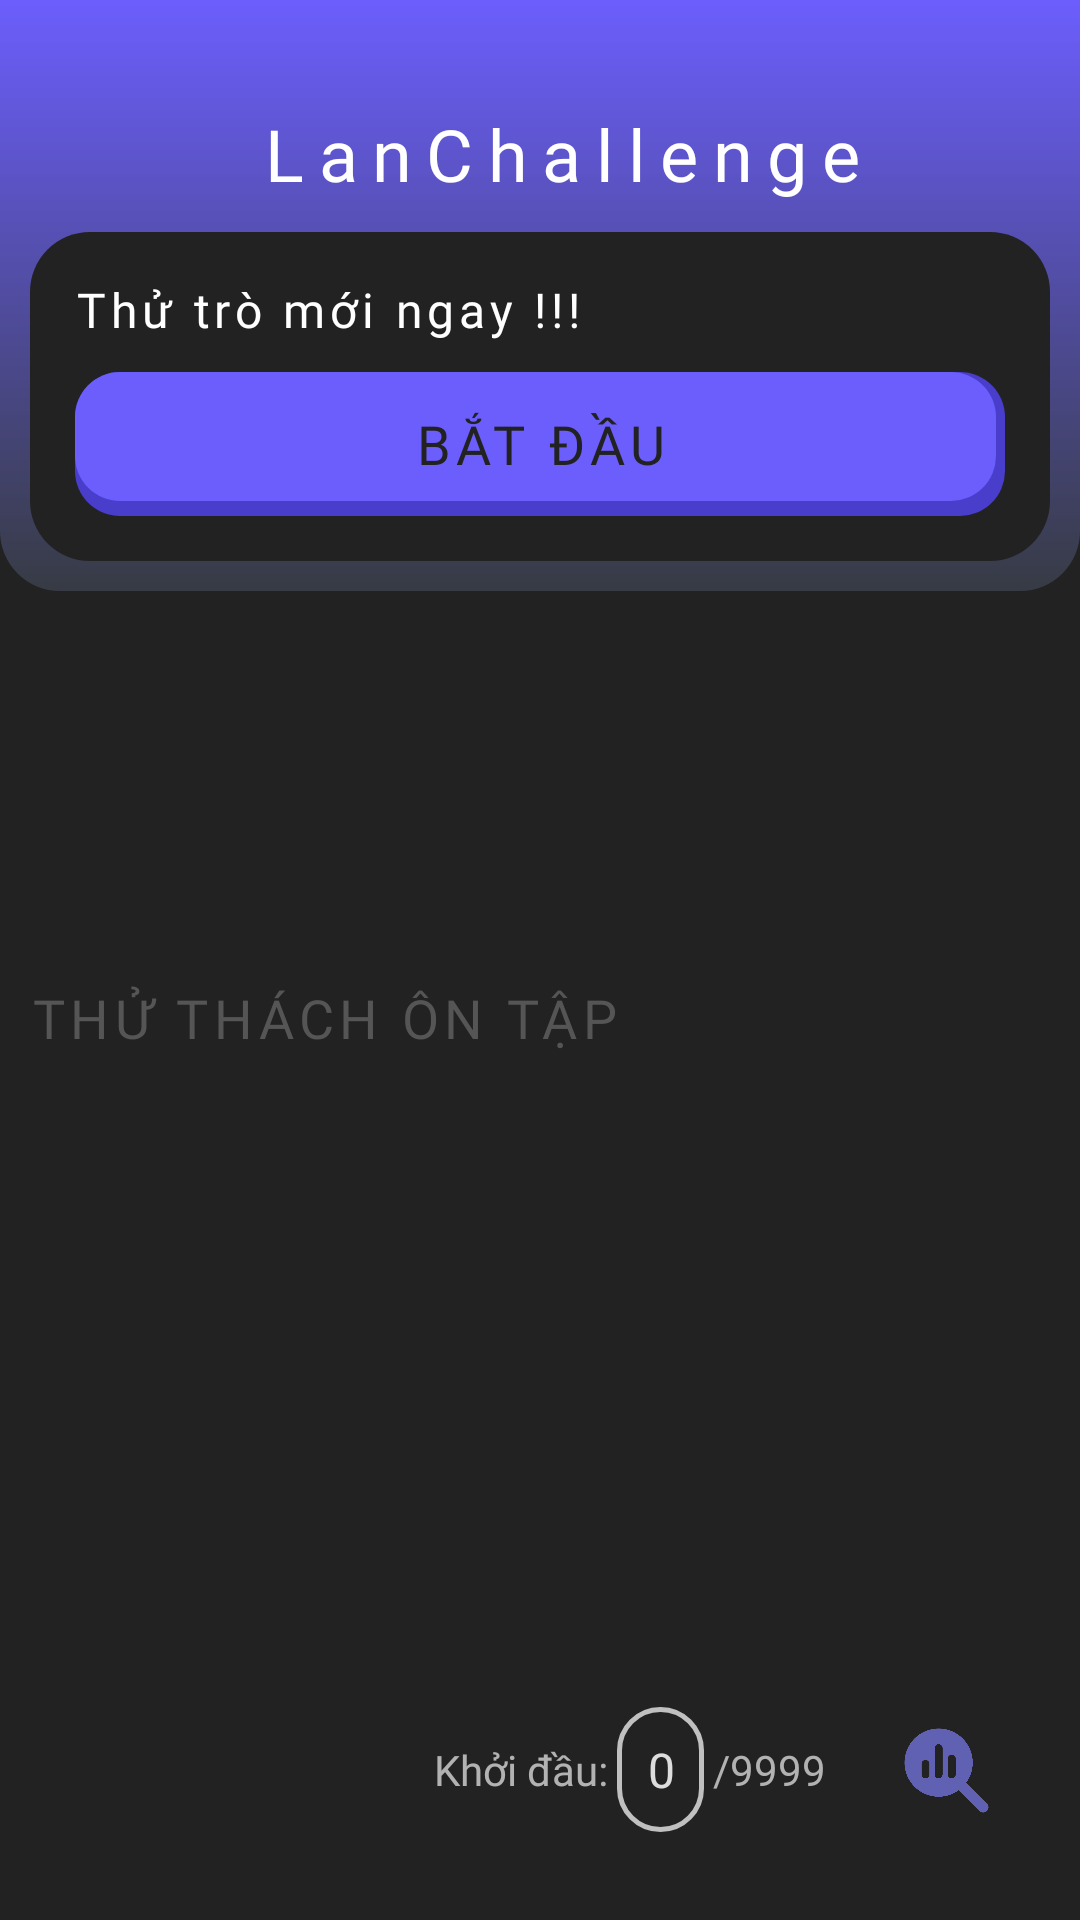

Icon bounding boxes for this 1080*1920 phone screenshot, format [left=x1, top=y1, right=x2, bottom=y2]:
report: [left=904, top=1728, right=989, bottom=1813]
